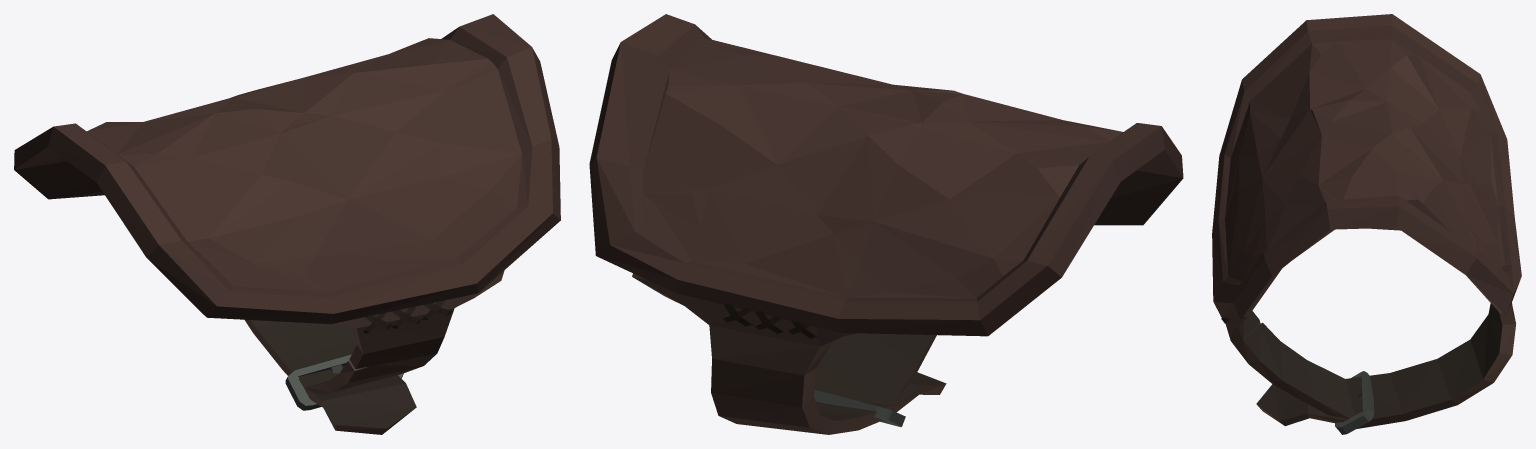
The model's file is vikingArmorUpperArmFemale.glb.
3 views of the same model, side by side, from view 1: azimuth 30°, elevation 25°; view 2: azimuth 150°, elevation 25°; view 3: azimuth 270°, elevation 25° (orthographic). The views are drawn at different scales.
Visible parts, largest first — view 1: vikingArmorUpperArm; view 2: vikingArmorUpperArm; view 3: vikingArmorUpperArm.
Part boxes in pixels (x1,y1,x2,y2): vikingArmorUpperArm: [14, 14, 560, 434]; vikingArmorUpperArm: [589, 14, 1183, 434]; vikingArmorUpperArm: [1212, 14, 1521, 434].
Bounding box in the file's own units: 0.1846 × 0.1274 × 0.1204.
